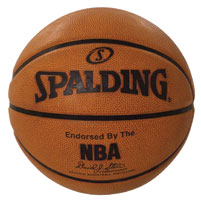basketball: (10, 8, 194, 195)
